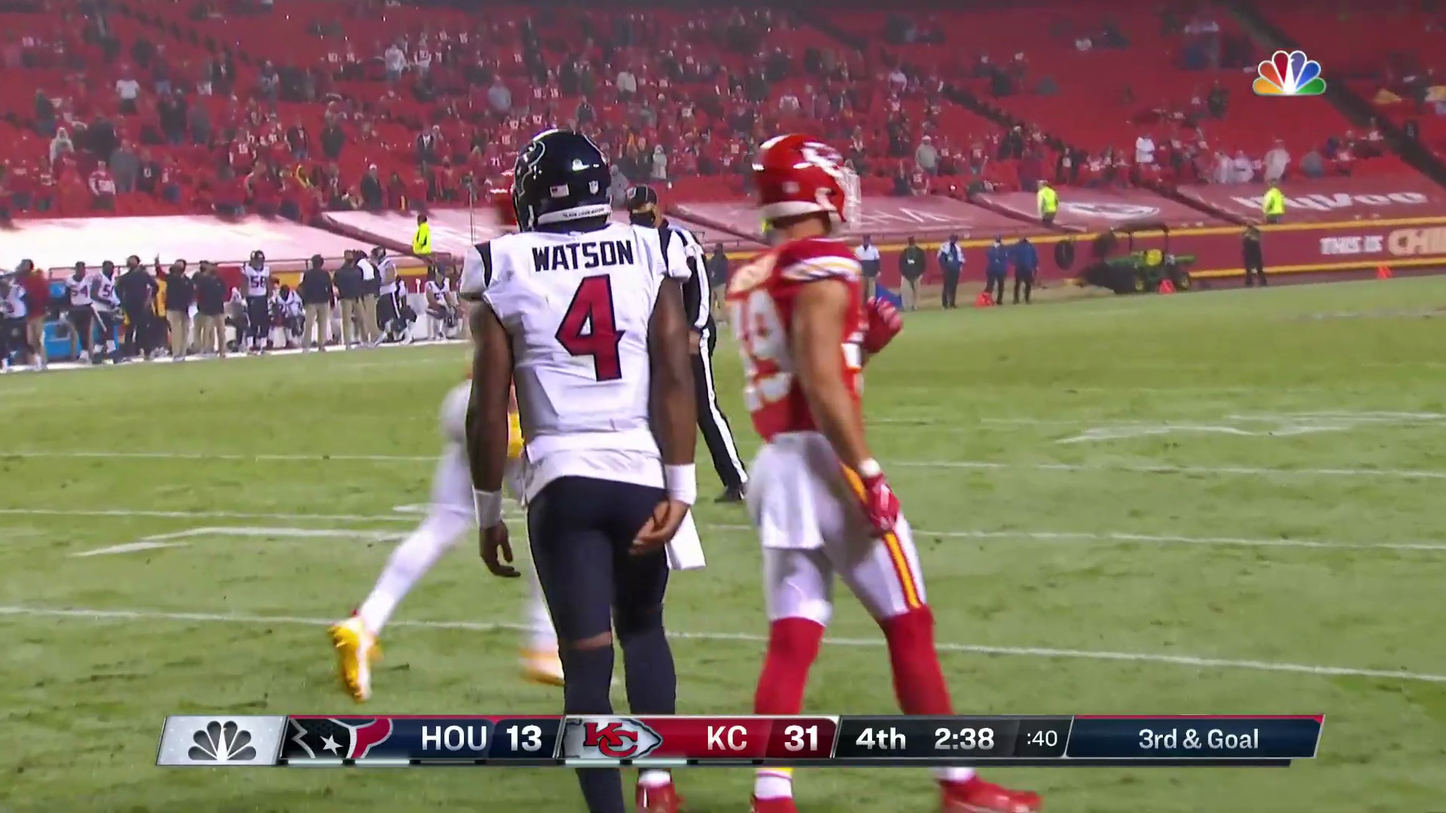Player: (467, 120, 724, 618), (636, 768, 682, 812)
